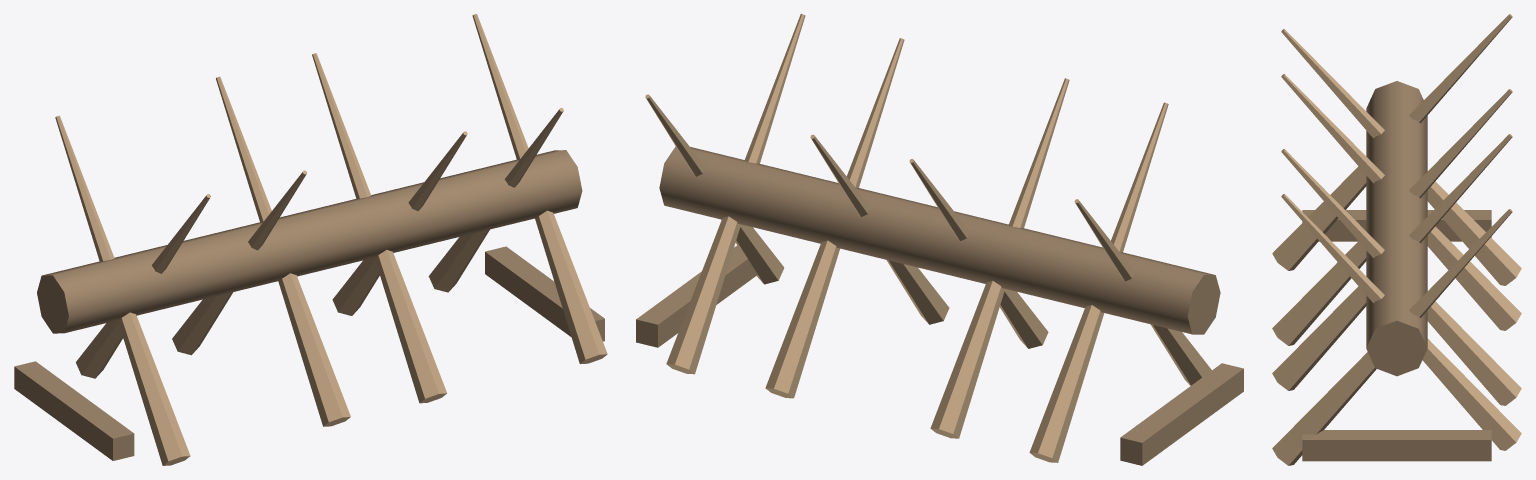
File: hd_barricade.glb
3 views of the same model, side by side, from view 1: azimuth 30°, elevation 25°; view 2: azimuth 150°, elevation 25°; view 3: azimuth 270°, elevation 25° (orthographic). The views are drawn at different scales.
Visible parts, largest first — view 1: hd_barricade; view 2: hd_barricade; view 3: hd_barricade.
Boxes of the visible parts, box(x1,y1,x2,y2) form: hd_barricade: box(14, 14, 607, 465); hd_barricade: box(636, 14, 1243, 465); hd_barricade: box(1272, 14, 1521, 465).
Size of the model in its own units: 2.4 by 1.19 by 1.06.
